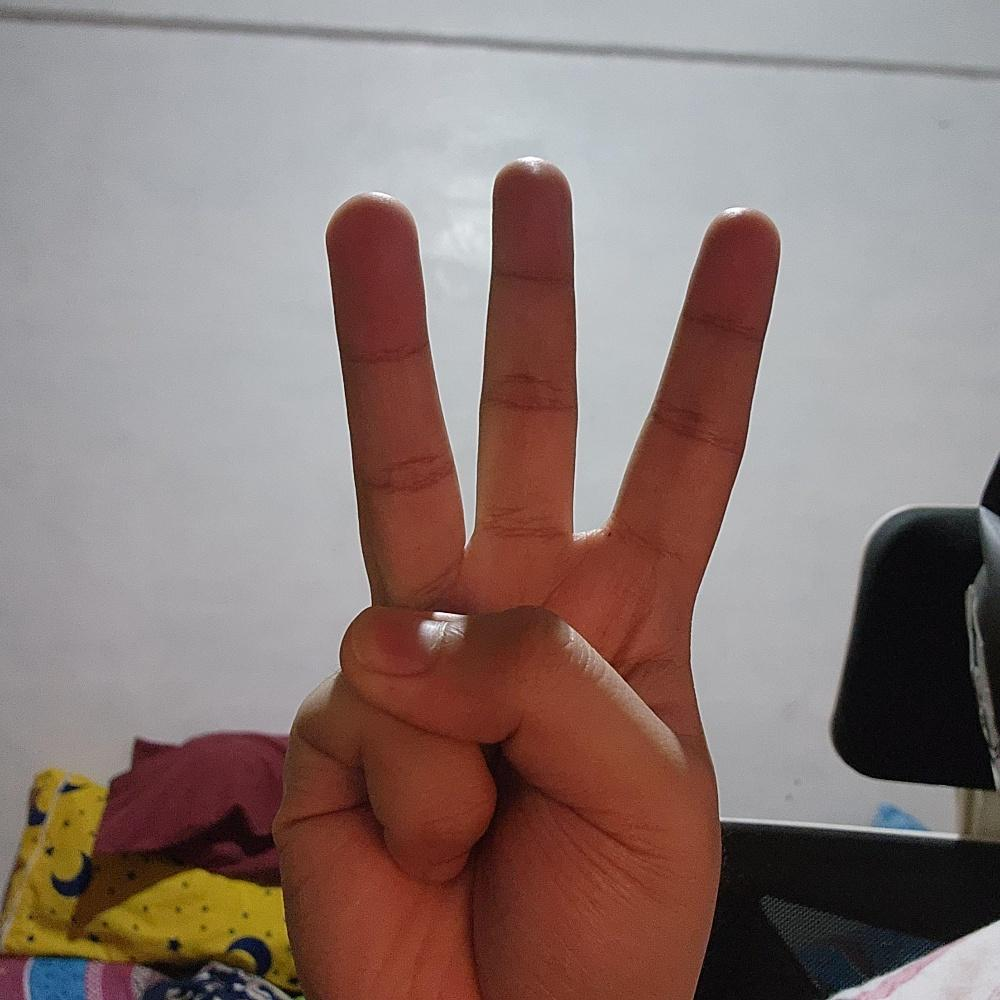w: (274, 156, 782, 999)
